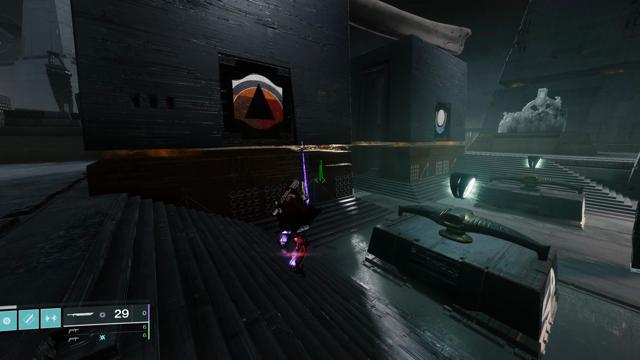pyramid: (232, 74, 283, 129)
traveler: (434, 109, 447, 134)
